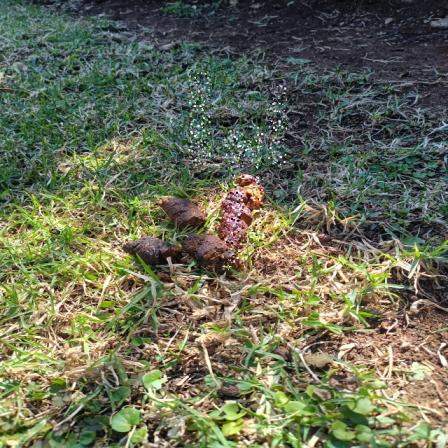dog-poop: (141, 181, 253, 275)
